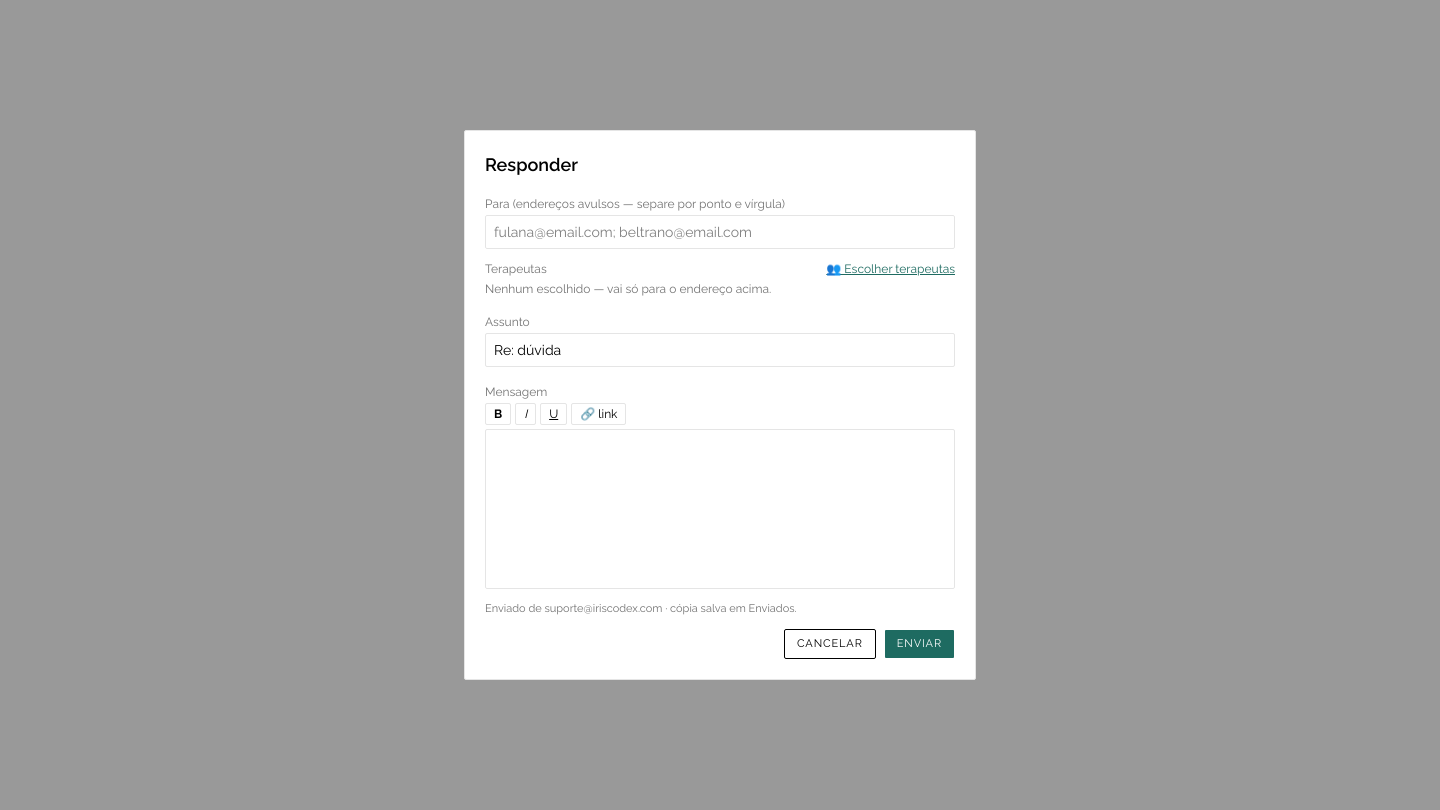
Test: ComposeForm — envio em massa para terapeutas › dá para tirar alguém da lista pelo × antes de enviar
Expected: the text box is shown, top-left (485, 429), bottom-right (955, 589)
Click the button "👥 Escolher terapeutas" at (891, 269), box top-left (826, 261), bottom-right (955, 277)
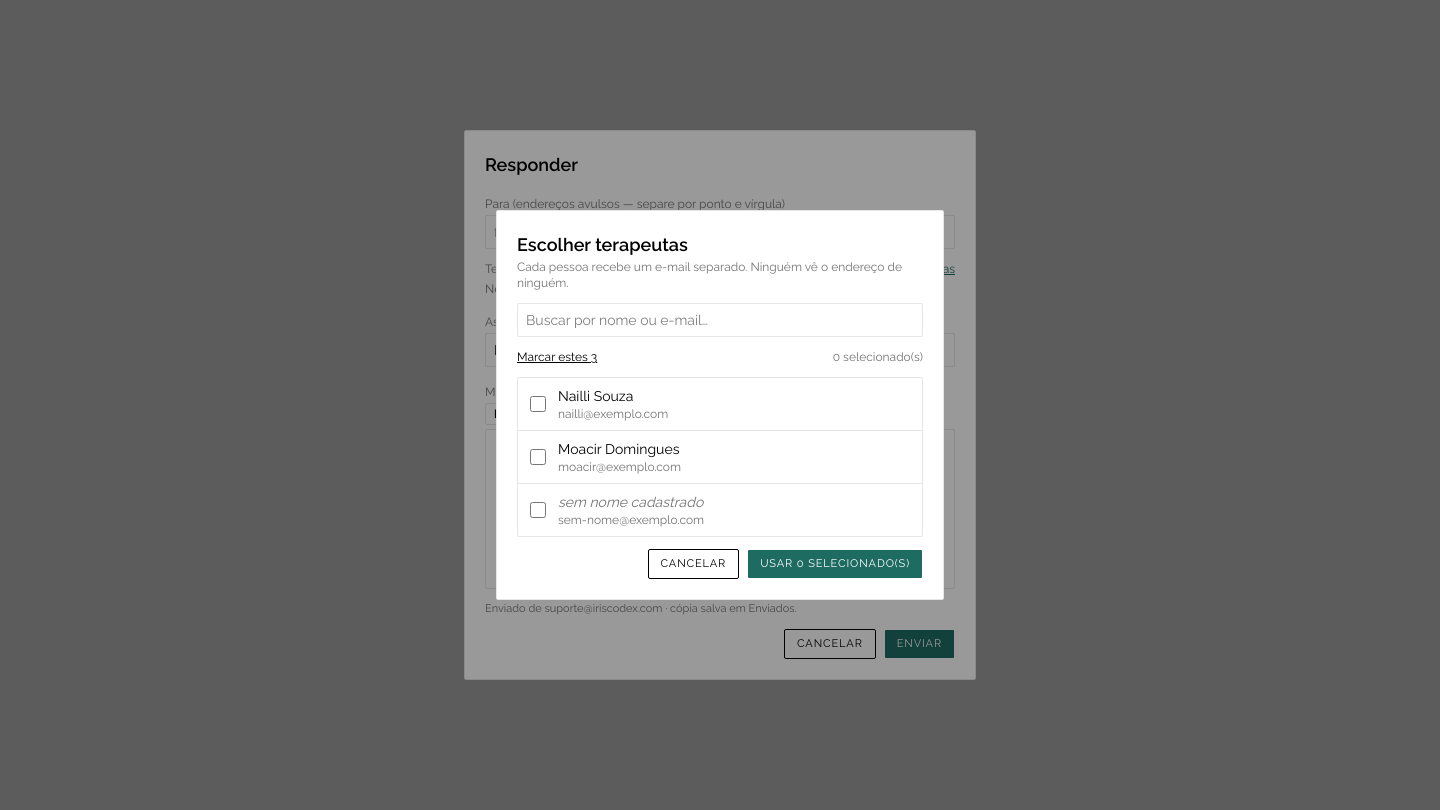
Result: the heading "Escolher terapeutas" is shown at top-left (517, 234), bottom-right (688, 255)
Click the checkbox labelled "Nailli Souza nailli@exemplo.com" at (538, 404), box top-left (530, 396), bottom-right (546, 412)
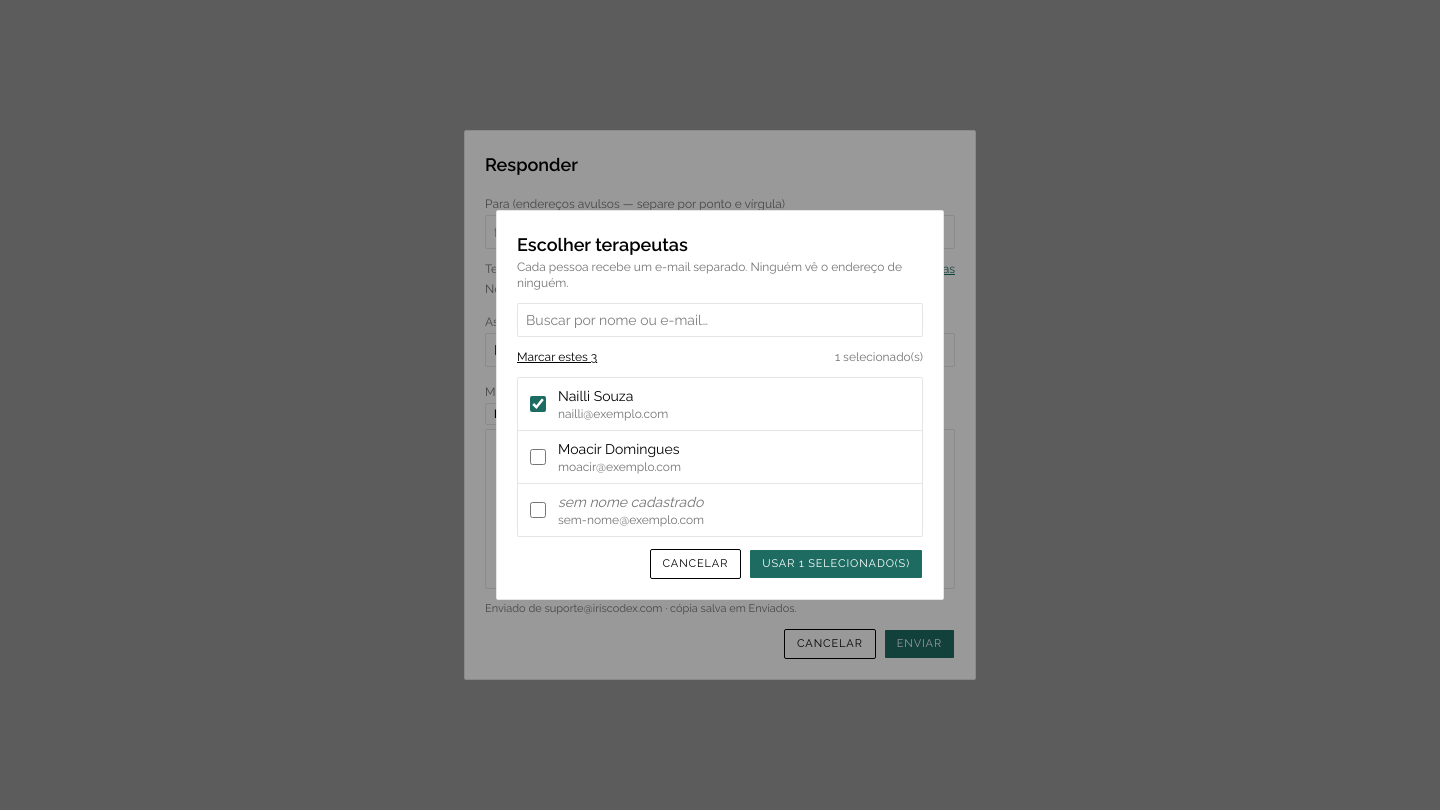
Click the checkbox labelled "Moacir Domingues moacir@exemplo.com" at (538, 457), box top-left (530, 449), bottom-right (546, 465)
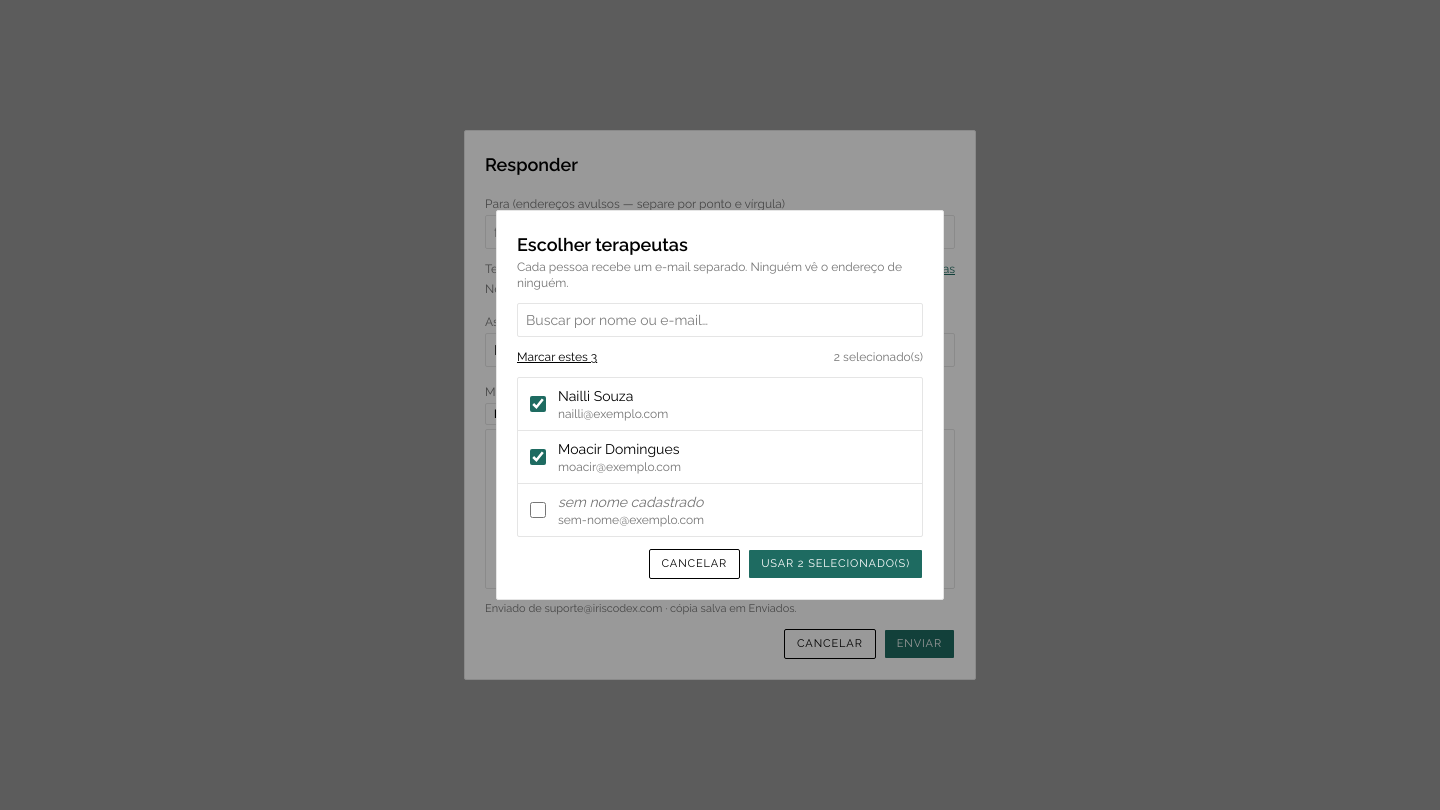
Click the button "Usar 2 selecionado(s)" at (836, 564), box top-left (748, 549), bottom-right (923, 579)
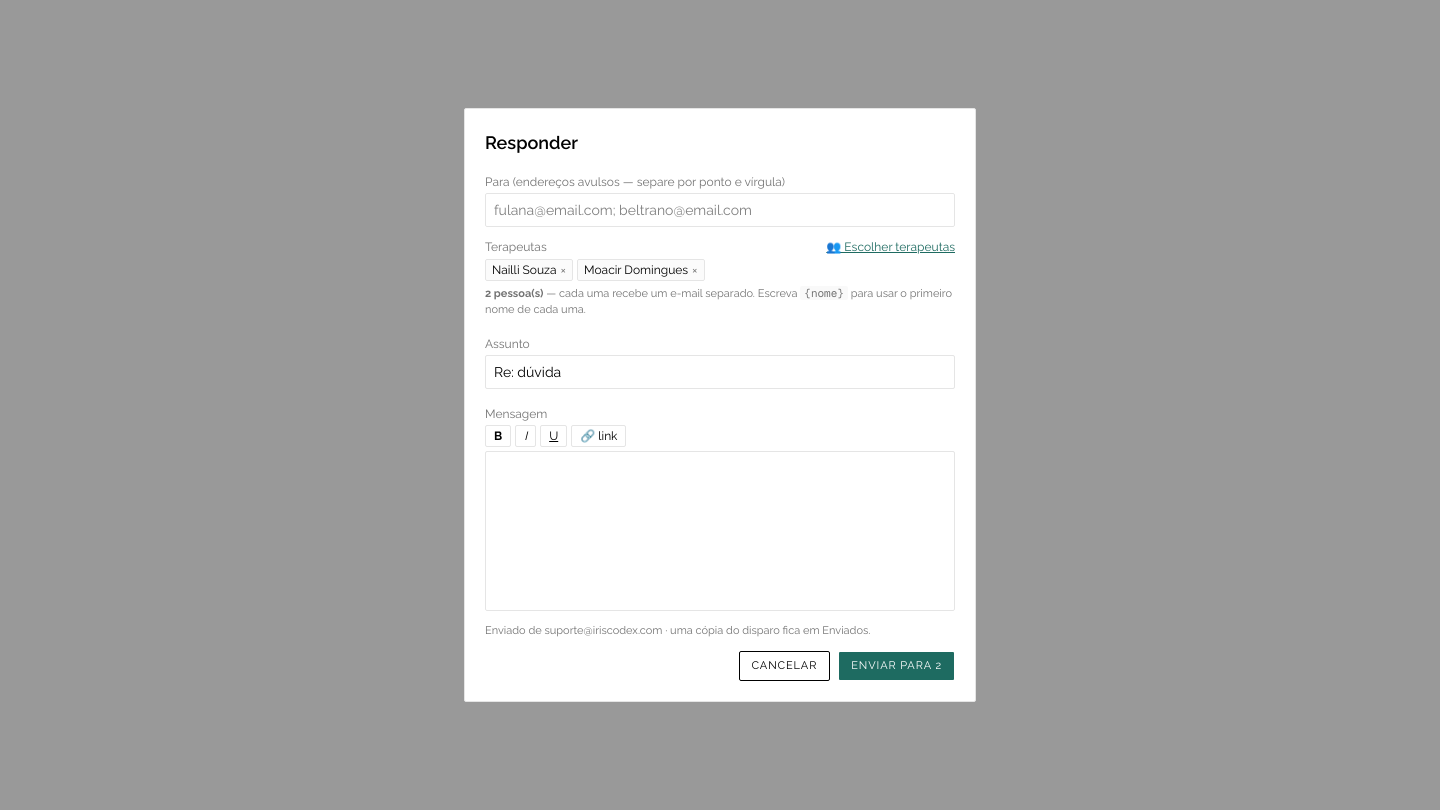
Click the button named "remover Moacir Domingues" at (695, 270), box top-left (692, 262), bottom-right (698, 278)
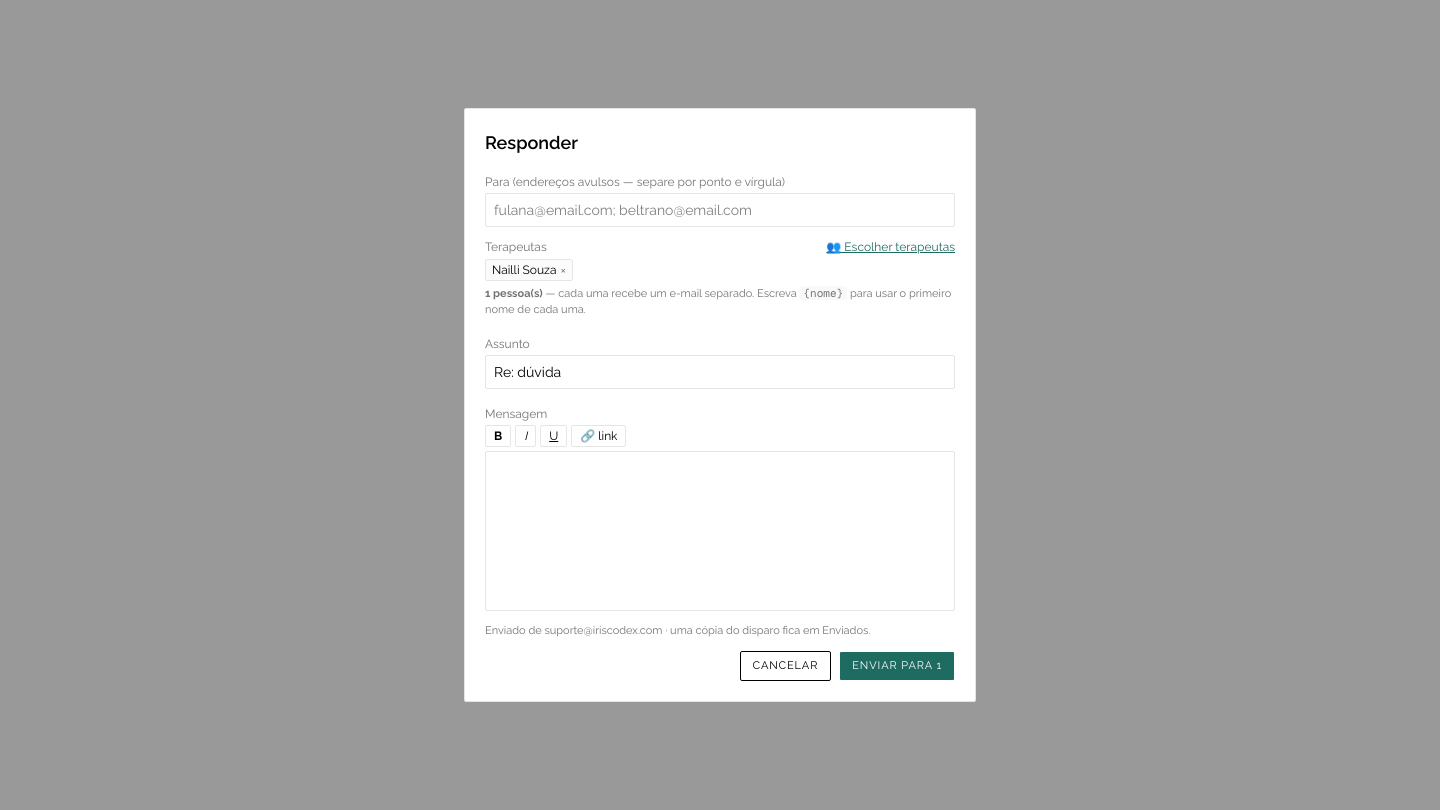
Result: the button "Enviar para 1" is shown at top-left (839, 651), bottom-right (955, 681)
